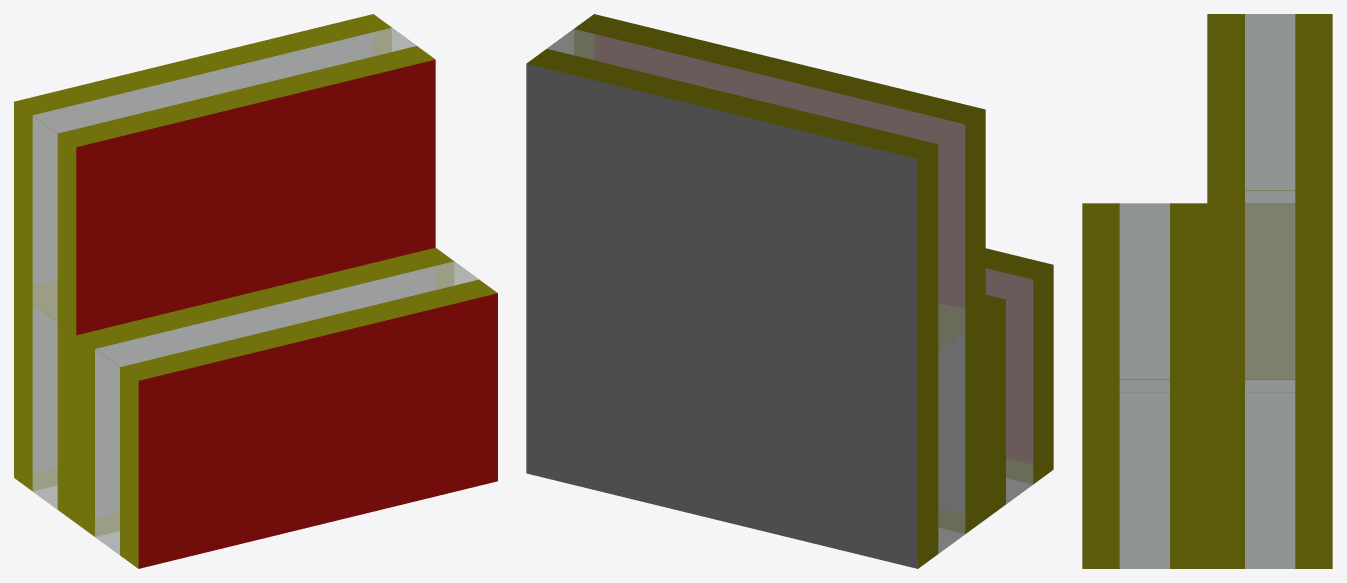
Rendered from idf1.obj.
The picture shows the model from 3 angles, left to right: view 1: azimuth 30°, elevation 25°; view 2: azimuth 150°, elevation 25°; view 3: azimuth 270°, elevation 25°; orthographic projection. The views are drawn at different scales.
Bounding box in the file's own units: 10 × 10 × 6.
